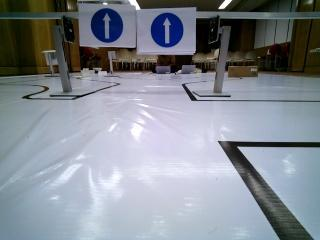straight: (76, 2, 138, 49), (136, 10, 194, 54)
